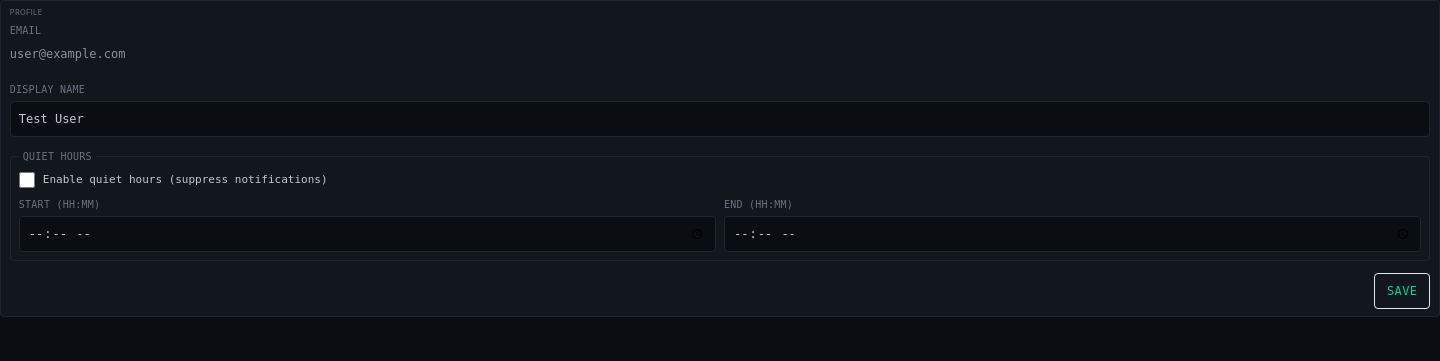
Test: Settings/Profile › Save shows error alert when API rejects
This screenshot has width=1440, height=361.
Check: the field labelled "Display name" is shown, box left=10, top=101, right=1430, bottom=137
Click the button "Save": (1402,291) left=1374, top=273, right=1430, bottom=309
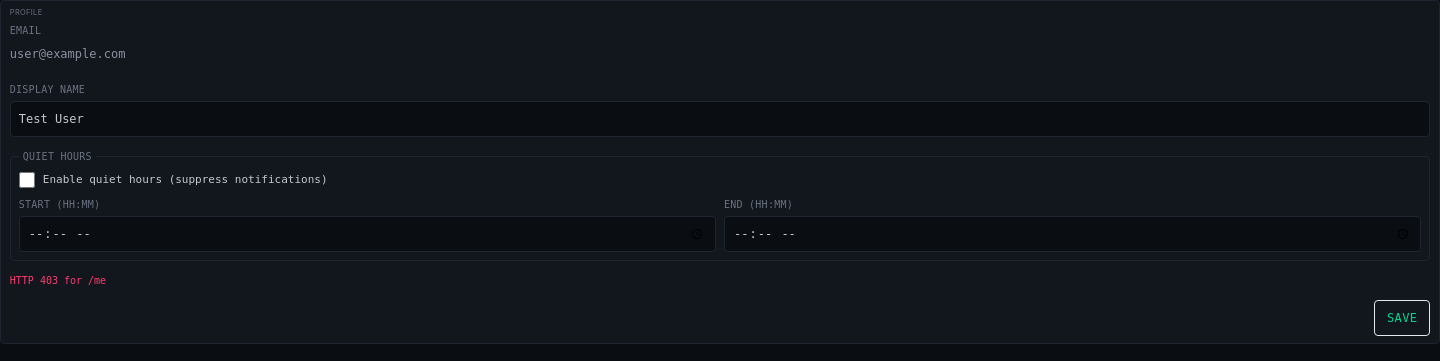
Check: the message shows "HTTP 403", box left=10, top=275, right=106, bottom=286
